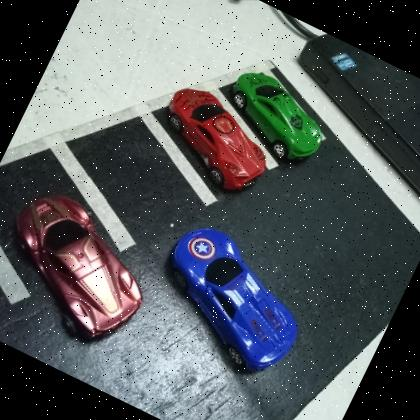Car: (137, 213, 326, 386), (0, 176, 170, 357), (143, 75, 285, 202), (212, 61, 339, 172)
